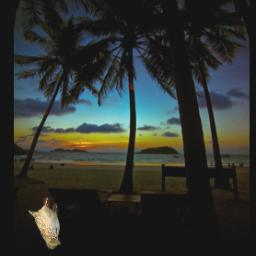Sparrow: (29, 198, 62, 249)
